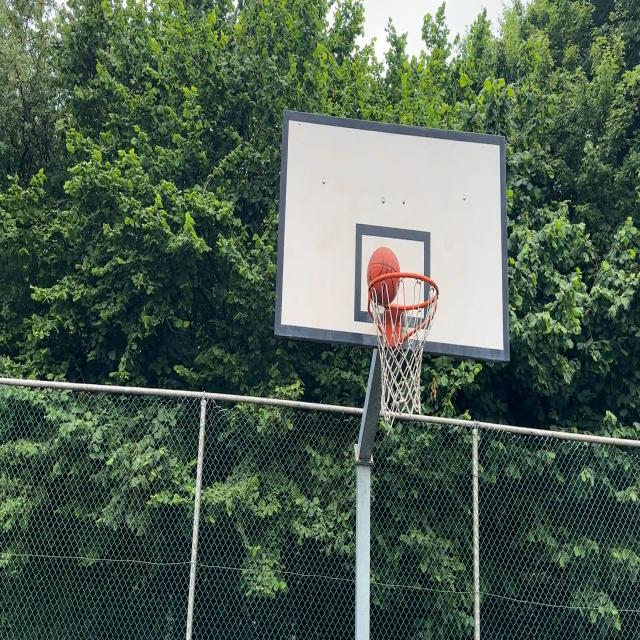rebound_hit: (368, 246, 401, 305)
